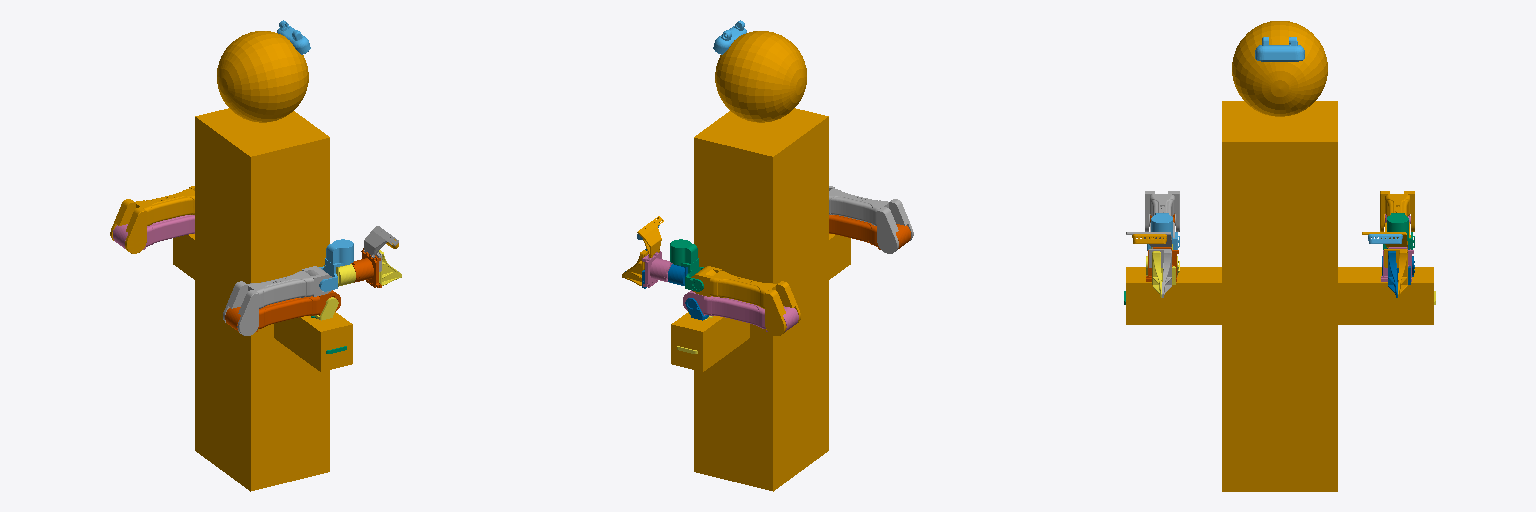
--- What the picture shows (computed from the rendered views, not written in the file) ---
Views: 3 orthographic renders of the robot side by side, from view 1: azimuth 30°, elevation 25°; view 2: azimuth 150°, elevation 25°; view 3: azimuth 270°, elevation 25°.
Model rtop with 49 links and 48 joints (12 revolute, 4 prismatic, 32 fixed), rooted at world, posed every joint at zero.
Links seen in each view (by area): view 1: base, right_link_3, left_link_3, right_link_2, left_link_2, right_link_4, right_link_6, right_camera_support; view 2: base, left_link_3, right_link_3, left_link_2, right_link_2, left_link_4, left_link_6, left_camera_support; view 3: base, right_link_3, left_link_3, top_camera, left_link_left_finger.
Boxes of the visible links, x1,y1,x2,y2 form: base: [173, 31, 352, 491]; right_link_3: [223, 266, 332, 335]; left_link_3: [110, 186, 194, 253]; right_link_2: [225, 290, 340, 331]; left_link_2: [113, 215, 194, 249]; right_link_4: [319, 239, 353, 291]; right_link_6: [351, 248, 381, 287]; right_camera_support: [364, 226, 398, 257]; base: [671, 31, 850, 491]; left_link_3: [691, 266, 800, 335]; right_link_3: [829, 186, 913, 253]; left_link_2: [683, 290, 798, 331]; right_link_2: [829, 215, 910, 249]; left_link_4: [670, 239, 703, 291]; left_link_6: [642, 251, 672, 287]; left_camera_support: [637, 216, 663, 257]; base: [1126, 21, 1433, 491]; right_link_3: [1145, 191, 1179, 237]; left_link_3: [1380, 191, 1414, 237]; top_camera: [1255, 37, 1304, 61]; left_link_left_finger: [1384, 249, 1407, 297].
Size in the robot's own frame: 0.5326 by 0.81 by 1.28 metres.
Meshes: 20 distinct files referenced, 39 mesh visuals loaded (1 binary STL, 19 OBJ).

The robot description file, URDF, robot "rtop":
<?xml version="1.0" ?>
<!-- =================================================================================== -->
<!-- |    This document was autogenerated by xacro from rtop.urdf.xacro                | -->
<!-- |    EDITING THIS FILE BY HAND IS NOT RECOMMENDED                                 | -->
<!-- =================================================================================== -->
<robot name="rtop">
  <!-- Base link (body) -->
  <link name="base">
    <inertial>
      <origin rpy="1.5708 0.0 1.5708" xyz="0.0 0.0 0.0"/>
      <mass value="10.0"/>
      <inertia ixx="1.0" ixy="0" ixz="0" iyy="1.0" iyz="0" izz="1.0"/>
    </inertial>
    <!-- TRONCO -->
    <visual name="base_visual">
      <origin rpy="1.5708 0.0 1.5708" xyz="0.0 0.0 1.0"/>
      <geometry>
        <box size="0.30 1.0 0.25"/>
      </geometry>
    </visual>
    <!-- HOMBROS -->
    <visual name="base_visual_hombros">
      <origin rpy="1.5708 0.0 1.5708" xyz="0.0 0.0 1.0"/>
      <geometry>
        <box size="0.8 0.12 0.10"/>
      </geometry>
    </visual>
    <!-- CABEZA -->
    <visual name="base_visual_cabeza">
      <origin rpy="1.5708 0.0 1.5708" xyz="0.0 0.0 1.65"/>
      <geometry>
        <sphere radius="0.125"/>
      </geometry>
    </visual>
    <collision name="base_collision">
      <origin rpy="1.5708 0.0 1.5708" xyz="0.0 0.0 1.0"/>
      <geometry>
        <box size="0.30 1.0 0.25"/>
      </geometry>
    </collision>
    <!-- HOMBROS -->
    <collision name="base_collision_hombros">
      <origin rpy="1.5708 0.0 1.5708" xyz="0.0 0.0 1.0"/>
      <geometry>
        <box size="0.8 0.12 0.10"/>
      </geometry>
    </collision>
    <!-- CABEZA -->
    <collision name="base_collision_cabeza">
      <origin rpy="1.5708 0.0 1.5708" xyz="0.0 0.0 1.65"/>
      <geometry>
        <sphere radius="0.125"/>
      </geometry>
    </collision>
  </link>
  <!-- Top camera link -->
  <link name="top_camera">
    <inertial>
      <origin rpy="0.0 0.0 0.0" xyz="0.0 0.0 0.0"/>
      <mass value="0.5"/>
      <inertia ixx="0.001" ixy="0" ixz="0" iyy="0.001" iyz="0" izz="0.001"/>
    </inertial>
    <visual name="top_camera_visual">
      <origin rpy="0.0 0.0 0.0" xyz="0.0 0.0 0.0"/>
      <geometry>
        <mesh filename="package://rtop_description/meshes/top_camera.obj"/>
      </geometry>
    </visual>
    <collision name="top_camera_collision">
      <origin rpy="0.0 0.0 0.0" xyz="0.0 0.0 0.0"/>
      <geometry>
        <mesh filename="package://rtop_description/meshes/top_camera.obj"/>
      </geometry>
    </collision>
  </link>
  <!-- Joint from base to top camera -->
  <joint name="base_to_top_camera" type="fixed">
    <parent link="base"/>
    <child link="top_camera"/>
    <origin rpy="2.84489 0.0 1.5708" xyz="0.0865 0.0 1.77"/>
  </joint>
  <!-- World link -->
  <link name="world">
    <inertial>
      <origin rpy="0.0 0.0 0.0" xyz="0.0 0.0 0.0"/>
      <mass value="0.0"/>
      <inertia ixx="0.0" ixy="0" ixz="0" iyy="0.0" iyz="0" izz="0.0"/>
    </inertial>
  </link>
  <!-- Joint from world to base -->
  <joint name="world_to_base" type="fixed">
    <parent link="world"/>
    <child link="base"/>
    <origin rpy="0.0 0.0 0.0" xyz="0.0 0.0 0.0"/>
  </joint>
  <!-- Arm base link -->
  <link name="left_arm">
    <inertial>
      <origin rpy="0.0 0.0 0.0" xyz="0.0 0.0 0.026"/>
      <mass value="0.21895644158459424"/>
      <inertia ixx="0.00013879124248906134" ixy="0" ixz="0" iyy="0.00013879124248906134" iyz="0" izz="0.00010282878735692499"/>
    </inertial>
    <visual name="left_model2">
      <origin rpy="1.5701130102263443 0.005344186766801151 -3.1414365496107033" xyz="-2.0738360577213484e-05 2.041311002275178e-05 0.01154286287615687"/>
      <geometry>
        <mesh filename="package://yam_arm_description/meshes/converted_model2_808080ff.obj"/>
      </geometry>
    </visual>
    <collision name="left_model2_collision">
      <origin rpy="1.5701130102263443 0.005344186766801151 -3.1414365496107033" xyz="-2.0738360577213484e-05 2.041311002275178e-05 0.01154286287615687"/>
      <geometry>
        <mesh filename="package://yam_arm_description/meshes/converted_model2_808080ff.obj"/>
      </geometry>
    </collision>
  </link>
  <joint name="left_parent2arm_fixed" type="fixed">
    <parent link="base"/>
    <child link="left_arm"/>
    <origin rpy="0.0 0.0 0.0" xyz="0.0 0.305 1.0"/>
  </joint>
  <!-- Link 1 -->
  <link name="left_link_1">
    <inertial>
      <origin rpy="1.6743480392523338 -0.6015439689011491 1.5666873963753192" xyz="-0.00192861 -0.00795735 0.0208176"/>
      <mass value="0.12415"/>
      <inertia ixx="0.000180751" ixy="0" ixz="0" iyy="0.000145532" iyz="0" izz="5.89179e-05"/>
    </inertial>
    <visual name="left_model2__2">
      <origin rpy="1.5650454550240567 -0.6317582807873867 1.5710673633815686" xyz="0.0007117901440024366 -0.008267794027987337 0.022250179687008112"/>
      <geometry>
        <mesh filename="package://yam_arm_description/meshes/converted_model2__2_808080ff.obj"/>
      </geometry>
    </visual>
    <collision name="left_model2__2_collision">
      <origin rpy="1.5650454550240567 -0.6317582807873867 1.5710673633815686" xyz="0.0007117901440024366 -0.008267794027987337 0.022250179687008112"/>
      <geometry>
        <mesh filename="package://yam_arm_description/meshes/converted_model2__2_808080ff.obj"/>
      </geometry>
    </collision>
  </link>
  <link name="left_joint1_link">
    <inertial>
      <origin rpy="0.0 0.0 0.0" xyz="0.0 0.0 0.0"/>
      <mass value="0.001"/>
      <inertia ixx="1e-09" ixy="0" ixz="0" iyy="1e-09" iyz="0" izz="1e-09"/>
    </inertial>
  </link>
  <joint name="left_joint1" type="revolute">
    <parent link="left_arm"/>
    <child link="left_joint1_link"/>
    <origin rpy="0.0 0.0 1.5707963267948963" xyz="0.0 0.0 0.0631"/>
    <axis xyz="0.0 0.0 1.0"/>
    <limit effort="100" lower="-2.61799" upper="3.05433" velocity="100"/>
  </joint>
  <joint name="left_joint1_offset" type="fixed">
    <parent link="left_joint1_link"/>
    <child link="left_link_1"/>
    <origin rpy="0.0 0.0 0.0" xyz="-0.0 -0.0 -0.0"/>
  </joint>
  <!-- Link 2 -->
  <link name="left_link_2">
    <inertial>
      <origin rpy="1.5707963267948966 0.0 1.5707963267948966" xyz="0.132008 2.10599e-06 0.000293073"/>
      <mass value="1.24434"/>
      <inertia ixx="0.0121902" ixy="0" ixz="0" iyy="0.0121318" iyz="0" izz="0.000683304"/>
    </inertial>
    <visual name="left_model2__3">
      <origin rpy="0.0012886015838013758 0.0 1.5707963267948966" xyz="0.26007948449650414 2.5977632368834325e-07 0.00022869283697025413"/>
      <geometry>
        <mesh filename="package://yam_arm_description/meshes/converted_model2__3_808080ff.obj"/>
      </geometry>
    </visual>
    <collision name="left_model2__3_collision">
      <origin rpy="0.0012886015838013758 0.0 1.5707963267948966" xyz="0.26007948449650414 2.5977632368834325e-07 0.00022869283697025413"/>
      <geometry>
        <mesh filename="package://yam_arm_description/meshes/converted_model2__3_808080ff.obj"/>
      </geometry>
    </collision>
    <visual name="left_model2__4">
      <origin rpy="-0.0012886020855807743 0.0 1.5707963267948966" xyz="0.003920561027152974 2.5977629421192194e-07 0.00022869282878015162"/>
      <geometry>
        <mesh filename="package://yam_arm_description/meshes/converted_model2__4_808080ff.obj"/>
      </geometry>
    </visual>
    <collision name="left_model2__4_collision">
      <origin rpy="-0.0012886020855807743 0.0 1.5707963267948966" xyz="0.003920561027152974 2.5977629421192194e-07 0.00022869282878015162"/>
      <geometry>
        <mesh filename="package://yam_arm_description/meshes/converted_model2__4_808080ff.obj"/>
      </geometry>
    </collision>
    <visual name="left_model2__5">
      <origin rpy="1.5720341600620127 -1.5679213575591051 -1.5720413321413815" xyz="0.1320117461361114 -1.306943646950387e-05 9.079293692478702e-08"/>
      <geometry>
        <mesh filename="package://yam_arm_description/meshes/converted_model2__5_808080ff.obj"/>
      </geometry>
    </visual>
    <collision name="left_model2__5_collision">
      <origin rpy="1.5720341600620127 -1.5679213575591051 -1.5720413321413815" xyz="0.1320117461361114 -1.306943646950387e-05 9.079293692478702e-08"/>
      <geometry>
        <mesh filename="package://yam_arm_description/meshes/converted_model2__5_808080ff.obj"/>
      </geometry>
    </collision>
  </link>
  <link name="left_joint2_link">
    <inertial>
      <origin rpy="0.0 0.0 0.0" xyz="0.0 0.0 0.0"/>
      <mass value="0.001"/>
      <inertia ixx="1e-09" ixy="0" ixz="0" iyy="1e-09" iyz="0" izz="1e-09"/>
    </inertial>
  </link>
  <joint name="left_joint2" type="revolute">
    <parent link="left_link_1"/>
    <child link="left_joint2_link"/>
    <origin rpy="1.5707963267948966 0.0 1.5707963267948966" xyz="2.5e-05 -0.02 0.0409"/>
    <axis xyz="0.0 0.0 1.0"/>
    <limit effort="300" lower="-1.0e-03" upper="3.66519" velocity="100"/>
  </joint>
  <joint name="left_joint2_offset" type="fixed">
    <parent link="left_joint2_link"/>
    <child link="left_link_2"/>
    <origin rpy="0.0 0.0 0.0" xyz="-0.0 -0.0 -0.0"/>
  </joint>
  <!-- Link 3 -->
  <link name="left_link_3">
    <inertial>
      <origin rpy="1.5707963267948966 0.0 1.5707963267948966" xyz="-0.121816 -0.054846 -0.000111108"/>
      <mass value="0.853698"/>
      <inertia ixx="0.00699732" ixy="0" ixz="0" iyy="0.00696112" iyz="0" izz="0.000788244"/>
    </inertial>
    <visual name="left_model2__6">
      <origin rpy="3.0364915071378875 0.0 -1.5707963267948968" xyz="-0.24063976713274154 -0.059999782142154706 -0.003760273578300405"/>
      <geometry>
        <mesh filename="package://yam_arm_description/meshes/converted_model2__6_808080ff.obj"/>
      </geometry>
    </visual>
    <collision name="left_model2__6_collision">
      <origin rpy="3.0364915071378875 0.0 -1.5707963267948968" xyz="-0.24063976713274154 -0.059999782142154706 -0.003760273578300405"/>
      <geometry>
        <mesh filename="package://yam_arm_description/meshes/converted_model2__6_808080ff.obj"/>
      </geometry>
    </collision>
    <visual name="left_model2__7">
      <origin rpy="-2.87879006743723 1.4720957652931421 1.6013719605643306" xyz="-0.007710009148021196 -0.03486048010433765 0.0347071645682882"/>
      <geometry>
        <mesh filename="package://yam_arm_description/meshes/converted_model2__7_808080ff.obj"/>
      </geometry>
    </visual>
    <collision name="left_model2__7_collision">
      <origin rpy="-2.87879006743723 1.4720957652931421 1.6013719605643306" xyz="-0.007710009148021196 -0.03486048010433765 0.0347071645682882"/>
      <geometry>
        <mesh filename="package://yam_arm_description/meshes/converted_model2__7_808080ff.obj"/>
      </geometry>
    </collision>
    <visual name="left_model2__8">
      <origin rpy="1.5707945314613085 0.0026832997041226214 -1.570809065297576" xyz="-0.1206720859561709 -0.06001334031535149 5.408345552423209e-07"/>
      <geometry>
        <mesh filename="package://yam_arm_description/meshes/converted_model2__8_808080ff.obj"/>
      </geometry>
    </visual>
    <collision name="left_model2__8_collision">
      <origin rpy="1.5707945314613085 0.0026832997041226214 -1.570809065297576" xyz="-0.1206720859561709 -0.06001334031535149 5.408345552423209e-07"/>
      <geometry>
        <mesh filename="package://yam_arm_description/meshes/converted_model2__8_808080ff.obj"/>
      </geometry>
    </collision>
    <visual name="left_model2__9">
      <origin rpy="0.28836143122615043 1.443690062944695 -1.515041718980295" xyz="-0.008240431625057998 -0.03737256683266851 -0.033699619180835645"/>
      <geometry>
        <mesh filename="package://yam_arm_description/meshes/converted_model2__9_808080ff.obj"/>
      </geometry>
    </visual>
    <collision name="left_model2__9_collision">
      <origin rpy="0.28836143122615043 1.443690062944695 -1.515041718980295" xyz="-0.008240431625057998 -0.03737256683266851 -0.033699619180835645"/>
      <geometry>
        <mesh filename="package://yam_arm_description/meshes/converted_model2__9_808080ff.obj"/>
      </geometry>
    </collision>
  </link>
  <link name="left_joint3_link">
    <inertial>
      <origin rpy="0.0 0.0 0.0" xyz="0.0 0.0 0.0"/>
      <mass value="0.001"/>
      <inertia ixx="1e-09" ixy="0" ixz="0" iyy="1e-09" iyz="0" izz="1e-09"/>
    </inertial>
  </link>
  <joint name="left_joint3" type="revolute">
    <parent link="left_link_2"/>
    <child link="left_joint3_link"/>
    <origin rpy="3.141592653589793 0.0 0.0" xyz="0.264 0.0 0.0"/>
    <axis xyz="0.0 0.0 1.0"/>
    <limit effort="300" lower="-1.0e-03" upper="3.66519" velocity="100"/>
  </joint>
  <joint name="left_joint3_offset" type="fixed">
    <parent link="left_joint3_link"/>
    <child link="left_link_3"/>
    <origin rpy="0.0 0.0 0.0" xyz="-0.0 -0.0 -0.0"/>
  </joint>
  <!-- Link 4 -->
  <link name="left_link_4">
    <inertial>
      <origin rpy="1.5707963267948966 0.0 -0.6801532411309218" xyz="-0.0769778 -0.0527104 0.000154878"/>
      <mass value="0.463511"/>
      <inertia ixx="0.000791532" ixy="0" ixz="0" iyy="0.000744733" iyz="0" izz="0.000282116"/>
    </inertial>
    <visual name="left_model2__10">
      <origin rpy="1.5394854457020648 0.021662003917252814 -0.7117475435376935" xyz="-0.046776068687813616 -0.038270471745625256 -0.0008915243508352188"/>
      <geometry>
        <mesh filename="package://yam_arm_description/meshes/converted_model2__10_808080ff.obj"/>
      </geometry>
    </visual>
    <collision name="left_model2__10_collision">
      <origin rpy="1.5394854457020648 0.021662003917252814 -0.7117475435376935" xyz="-0.046776068687813616 -0.038270471745625256 -0.0008915243508352188"/>
      <geometry>
        <mesh filename="package://yam_arm_description/meshes/converted_model2__10_808080ff.obj"/>
      </geometry>
    </collision>
  </link>
  <link name="left_joint4_link">
    <inertial>
      <origin rpy="0.0 0.0 0.0" xyz="0.0 0.0 0.0"/>
      <mass value="0.001"/>
      <inertia ixx="1e-09" ixy="0" ixz="0" iyy="1e-09" iyz="0" izz="1e-09"/>
    </inertial>
  </link>
  <joint name="left_joint4" type="revolute">
    <parent link="left_link_3"/>
    <child link="left_joint4_link"/>
    <origin rpy="0.0 0.0 0.0" xyz="-0.245 -0.06 0.0"/>
    <axis xyz="0.0 0.0 1.0"/>
    <limit effort="100" lower="-1.5708" upper="1.5708" velocity="100"/>
  </joint>
  <joint name="left_joint4_offset" type="fixed">
    <parent link="left_joint4_link"/>
    <child link="left_link_4"/>
    <origin rpy="0.0 0.0 0.0" xyz="-0.0 -0.0 -0.0"/>
  </joint>
  <!-- Link 5 -->
  <link name="left_link_5">
    <inertial>
      <origin rpy="0.0 0.0 0.0" xyz="3.64861e-05 0.00025665 0.0353526"/>
      <mass value="0.350962"/>
      <inertia ixx="0.000197802" ixy="0" ixz="0" iyy="0.0001775" iyz="0" izz="0.000147402"/>
    </inertial>
    <visual name="left_model2__11">
      <origin rpy="2.67318045036048 0.0016544870659682687 -0.01152938218496731" xyz="5.815639855540116e-05 -0.0005553836621680353 0.03206235288381598"/>
      <geometry>
        <mesh filename="package://yam_arm_description/meshes/converted_model2__11_808080ff.obj"/>
      </geometry>
    </visual>
    <collision name="left_model2__11_collision">
      <origin rpy="2.67318045036048 0.0016544870659682687 -0.01152938218496731" xyz="5.815639855540116e-05 -0.0005553836621680353 0.03206235288381598"/>
      <geometry>
        <mesh filename="package://yam_arm_description/meshes/converted_model2__11_808080ff.obj"/>
      </geometry>
    </collision>
  </link>
  <link name="left_joint5_link">
    <inertial>
      <origin rpy="0.0 0.0 0.0" xyz="0.0 0.0 0.0"/>
      <mass value="0.001"/>
      <inertia ixx="1e-09" ixy="0" ixz="0" iyy="1e-09" iyz="0" izz="1e-09"/>
    </inertial>
  </link>
  <joint name="left_joint5" type="revolute">
    <parent link="left_link_4"/>
    <child link="left_joint5_link"/>
    <origin rpy="-1.5707963267948966 1.5707963267948966 0.0" xyz="-0.074 -0.0395 2.5e-05"/>
    <axis xyz="0.0 0.0 1.0"/>
    <limit effort="100" lower="-1.5708" upper="1.5708" velocity="100"/>
  </joint>
  <joint name="left_joint5_offset" type="fixed">
    <parent link="left_joint5_link"/>
    <child link="left_link_5"/>
    <origin rpy="0.0 0.0 0.0" xyz="-0.0 -0.0 -0.0"/>
  </joint>
  <!-- Link 6 -->
  <link name="left_link_6">
    <inertial>
      <origin rpy="1.5707963267948963 0.0 0.0" xyz="-0.000217767 7.37059e-05 0.0270545"/>
      <mass value="0.367476"/>
      <inertia ixx="0.000265958" ixy="0" ixz="0" iyy="0.000242686" iyz="0" izz="0.000227409"/>
    </inertial>
    <visual name="left_model2__12">
      <origin rpy="-1.7453668887584697 1.565490971850807 -1.9699125405676954" xyz="8.788302043375991e-05 0.0001190912220788709 0.05116721790419726"/>
      <geometry>
        <mesh filename="package://yam_arm_description/meshes/converted_model2__12_808080ff.obj"/>
      </geometry>
    </visual>
    <collision name="left_model2__12_collision">
      <origin rpy="-1.7453668887584697 1.565490971850807 -1.9699125405676954" xyz="8.788302043375991e-05 0.0001190912220788709 0.05116721790419726"/>
      <geometry>
        <mesh filename="package://yam_arm_description/meshes/converted_model2__12_808080ff.obj"/>
      </geometry>
    </collision>
    <visual name="left_model2__13">
      <origin rpy="-1.5799559470247646 0.8170286688385331 -0.14641337505452354" xyz="-0.00017825474995774047 1.6195054943213272e-05 0.03422382038141725"/>
      <geometry>
        <mesh filename="package://yam_arm_description/meshes/converted_model2__13_808080ff.obj"/>
      </geometry>
    </visual>
    <collision name="left_model2__13_collision">
      <origin rpy="-1.5799559470247646 0.8170286688385331 -0.14641337505452354" xyz="-0.00017825474995774047 1.6195054943213272e-05 0.03422382038141725"/>
      <geometry>
        <mesh filename="package://yam_arm_description/meshes/converted_model2__13_808080ff.obj"/>
      </geometry>
    </collision>
  </link>
  <link name="left_joint6_link">
    <inertial>
      <origin rpy="0.0 0.0 0.0" xyz="0.0 0.0 0.0"/>
      <mass value="0.001"/>
      <inertia ixx="1e-09" ixy="0" ixz="0" iyy="1e-09" iyz="0" izz="1e-09"/>
    </inertial>
  </link>
  <joint name="left_joint6" type="revolute">
    <parent link="left_link_5"/>
    <child link="left_joint6_link"/>
    <origin rpy="-1.5707963267948963 0.0 0.0" xyz="0.0 0.0353 0.0395"/>
    <axis xyz="0.0 0.0 1.0"/>
    <limit effort="100" lower="-2.0944" upper="2.0944" velocity="100"/>
  </joint>
  <joint name="left_joint6_offset" type="fixed">
    <parent link="left_joint6_link"/>
    <child link="left_link_6"/>
    <origin rpy="0.0 0.0 0.0" xyz="-0.0 -0.0 -0.0"/>
  </joint>
  <!-- Gripper: Left Finger -->
  <link name="left_link_left_finger">
    <inertial>
      <origin rpy="1.401155911297378 -0.506095322833723 -0.42940521230428" xyz="-0.0192995 -0.0365902 0.039774"/>
      <mass value="0.118"/>
      <inertia ixx="0.000159084" ixy="0" ixz="0" iyy="0.000154909" iyz="0" izz="4.63655e-05"/>
    </inertial>
    <visual name="left_model2__14">
      <origin rpy="1.2436149090470108 -1.3351755324428634 3.1192068678405445" xyz="-0.02621919095860112 -0.050961301789609365 0.04847966761952425"/>
      <geometry>
        <mesh filename="package://yam_arm_description/meshes/converted_model2__14_808080ff.obj"/>
      </geometry>
    </visual>
    <collision name="left_model2__14_collision">
      <origin rpy="1.2436149090470108 -1.3351755324428634 3.1192068678405445" xyz="-0.02621919095860112 -0.050961301789609365 0.04847966761952425"/>
      <geometry>
        <mesh filename="package://yam_arm_description/meshes/converted_model2__14_808080ff.obj"/>
      </geometry>
    </collision>
    <visual name="left_model2__15">
      <origin rpy="-0.08499655397451025 -0.08210615684708134 0.012014286826329146" xyz="-0.0018267628293356375 -0.014013453565219658 0.02860778296204746"/>
      <geometry>
        <mesh filename="package://yam_arm_description/meshes/converted_model2__15_808080ff.obj"/>
      </geometry>
    </visual>
    <collision name="left_model2__15_collision">
      <origin rpy="-0.08499655397451025 -0.08210615684708134 0.012014286826329146" xyz="-0.0018267628293356375 -0.014013453565219658 0.02860778296204746"/>
      <geometry>
        <mesh filename="package://yam_arm_description/meshes/converted_model2__15_808080ff.obj"/>
      </geometry>
    </collision>
  </link>
  <link name="left_left_finger_link">
    <inertial>
      <origin rpy="0.0 0.0 0.0" xyz="0.0 0.0 0.0"/>
      <mass value="0.001"/>
      <inertia ixx="1e-09" ixy="0" ixz="0" iyy="1e-09" iyz="0" izz="1e-09"/>
    </inertial>
  </link>
  <joint name="left_left_finger" type="prismatic">
    <parent link="left_link_6"/>
    <child link="left_left_finger_link"/>
    <origin rpy="-0.0 1.5707963267948966 0.0" xyz="-0.037 0.0392 0.0605"/>
    <axis xyz="0.0 0.0 1.0"/>
    <limit effort="100" lower="-0.00205" upper="0.037524" velocity="100"/>
  </joint>
  <joint name="left_left_finger_offset" type="fixed">
    <parent link="left_left_finger_link"/>
    <child link="left_link_left_finger"/>
    <origin rpy="0.0 0.0 0.0" xyz="-0.0 -0.0 -0.0"/>
  </joint>
  <link name="left_lf_rot">
    <inertial>
      <origin rpy="2.03719733945046 0.34503462898803194 1.5781769326774222" xyz="-0.008421052631578949 -0.015789473684210527 0.020421052631578947"/>
      <mass value="0.039793506945470715"/>
      <inertia ixx="2.3910376870188726e-05" ixy="0" ixz="0" iyy="2.0730203360923295e-05" iyz="0" izz="5.660176249101842e-06"/>
    </inertial>
  </link>
  <joint name="left_link_left_finger2lf_rot_fixed" type="fixed">
    <parent link="left_link_left_finger"/>
    <child link="left_lf_rot"/>
    <origin rpy="-1.5707963267948966 0.0 1.5707963267948966" xyz="0.0 -0.0392 0.037"/>
  </joint>
  <link name="left_lf_down">
    <inertial>
      <origin rpy="0.25192924677866 0.2603701692584921 1.7911531458129852" xyz="0.004865675005941529 -0.012786258560154471 0.029346031921652322"/>
      <mass value="0.02077574023677297"/>
      <inertia ixx="1.5767067212852193e-05" ixy="0" ixz="0" iyy="1.3071054583294231e-05" iyz="0" izz="3.94367471938606e-06"/>
    </inertial>
  </link>
  <joint name="left_lf_rot2lf_down_fixed" type="fixed">
    <parent link="left_lf_rot"/>
    <child link="left_lf_down"/>
    <origin rpy="0.0 0.0 0.0" xyz="-0.044 0.0 0.0"/>
  </joint>
  <!-- Gripper: Right Finger -->
  <link name="left_link_right_finger">
    <inertial>
      <origin rpy="-1.401155911297378 0.506095322833723 -0.42940521230428" xyz="-0.0192995 0.0365902 -0.039774"/>
      <mass value="0.118"/>
      <inertia ixx="0.000159084" ixy="0" ixz="0" iyy="0.000154909" iyz="0" izz="4.63655e-05"/>
    </inertial>
    <visual name="left_model2__16">
      <origin rpy="-0.08499624911644794 0.08210615585822456 -0.012014239544932078" xyz="-0.001826763203738313 0.014013021507929144 -0.02860778467768097"/>
      <geometry>
        <mesh filename="package://yam_arm_description/meshes/converted_model2__16_808080ff.obj"/>
      </geometry>
    </visual>
    <collision name="left_model2__16_collision">
      <origin rpy="-0.08499624911644794 0.08210615585822456 -0.012014239544932078" xyz="-0.001826763203738313 0.014013021507929144 -0.02860778467768097"/>
      <geometry>
        <mesh filename="package://yam_arm_description/meshes/converted_model2__16_808080ff.obj"/>
      </geometry>
    </collision>
    <visual name="left_model2__17">
      <origin rpy="-1.8906094630983066 -1.338715519977303 -0.013733131456833558" xyz="-0.026152342123741346 0.026813733867866105 -0.04844908896546901"/>
      <geometry>
        <mesh filename="package://yam_arm_description/meshes/converted_model2__17_808080ff.obj"/>
      </geometry>
    </visual>
    <collision name="left_model2__17_collision">
      <origin rpy="-1.8906094630983066 -1.338715519977303 -0.013733131456833558" xyz="-0.026152342123741346 0.026813733867866105 -0.04844908896546901"/>
      <geometry>
        <mesh filename="package://yam_arm_description/meshes/converted_model2__17_808080ff.obj"/>
      </geometry>
    </collision>
  </link>
  <link name="left_right_finger_link">
    <inertial>
      <origin rpy="0.0 0.0 0.0" xyz="0.0 0.0 0.0"/>
      <mass value="0.001"/>
      <inertia ixx="1e-09" ixy="0" ixz="0" iyy="1e-09" iyz="0" izz="1e-09"/>
    </inertial>
  </link>
  <joint name="left_right_finger" type="prismatic">
    <parent link="left_link_6"/>
    <child link="left_right_finger_link"/>
    <origin rpy="-0.0 1.5707963267948966 0.0" xyz="0.037 -0.0392 0.0605"/>
    <axis xyz="0.0 0.0 1.0"/>
    <limit effort="100" lower="-0.037524" upper="0.00205" velocity="100"/>
    <mimic joint="left_left_finger" multiplier="-1" offset="0"/>
  </joint>
  <joint name="left_right_finger_offset" type="fixed">
    <parent link="left_right_finger_link"/>
    <child link="left_link_right_finger"/>
    <origin rpy="0.0 0.0 0.0" xyz="-0.0 -0.0 -0.0"/>
  </joint>
  <link name="left_rf_rot">
    <inertial>
      <origin rpy="1.1043953141393332 0.34503462898803194 1.563415720912371" xyz="0.008421052631578949 -0.015789473684210527 0.020421052631578947"/>
      <mass value="0.039793506945470715"/>
      <inertia ixx="2.3910376870188726e-05" ixy="0" ixz="0" iyy="2.0730203360923295e-05" iyz="0" izz="5.660176249101842e-06"/>
    </inertial>
  </link>
  <joint name="left_link_right_finger2rf_rot_fixed" type="fixed">
    <parent link="left_link_right_finger"/>
    <child link="left_rf_rot"/>
    <origin rpy="1.5707963267948966 0.0 -1.5707963267948966" xyz="0.0 0.0392 -0.037"/>
  </joint>
  <link name="left_rf_down">
    <inertial>
      <origin rpy="-0.25192924677866 0.2603701692584921 1.3504395077768079" xyz="-0.004865675005941529 -0.012786258560154471 0.029346031921652322"/>
      <mass value="0.02077574023677297"/>
      <inertia ixx="1.5767067212852193e-05" ixy="0" ixz="0" iyy="1.3071054583294231e-05" iyz="0" izz="3.94367471938606e-06"/>
    </inertial>
  </link>
  <joint name="left_rf_rot2rf_down_fixed" type="fixed">
    <parent link="left_rf_rot"/>
    <child link="left_rf_down"/>
    <origin rpy="0.0 0.0 0.0" xyz="0.044 0.0 0.0"/>
  </joint>
  <link name="left_camera_support">
    <inertial>
      <origin rpy="0.0 0.0 0.0" xyz="0.0 0.0 0.0"/>
      <mass value="0.1"/>
      <inertia ixx="0.0001" ixy="0" ixz="0" iyy="0.0001" iyz="0" izz="0.0001"/>
    </inertial>
    <visual name="left_camera_support_visual">
      <origin rpy="0.0 0.0 0.0" xyz="0.0 0.0 0.0"/>
      <geometry>
        <mesh filename="package://yam_arm_description/meshes/camera_support.stl"/>
      </geometry>
    </visual>
    <collision name="left_camera_support_collision">
      <origin rpy="0.0 0.0 0.0" xyz="0.0 0.0 0.0"/>
      <geometry>
        <mesh filename="package://yam_arm_description/meshes/camera_support.stl"/>
      </geometry>
    </collision>
  </link>
  <joint name="left_link_6_to_camera_support_fixed" type="fixed">
    <parent link="left_link_6"/>
    <child link="left_camera_support"/>
    <origin rpy="1.5708 1.5708 3.14159" xyz="-0.02618 0.04089 0.05052"/>
  </joint>
  <link name="left_d435">
    <inertial>
      <origin rpy="0.0 0.0 0.0" xyz="0.0 0.0 0.0"/>
      <mass value="0.072"/>
      <inertia ixx="0.0001" ixy="0" ixz="0" iyy="0.0001" iyz="0" izz="0.0001"/>
    </inertial>
    <visual name="left_d435_visual">
      <origin rpy="0.0 0.0 0.0" xyz="0.0 0.0 0.0"/>
      <geometry>
        <mesh filename="package://yam_arm_description/meshes/D435.obj"/>
      </geometry>
    </visual>
    <collision name="left_d435_collision">
      <origin rpy="0.0 0.0 0.0" xyz="0.0 0.0 0.0"/>
      <geometry>
        <mesh filename="package://yam_arm_description/meshes/D435.obj"/>
      </geometry>
    </collision>
  </link>
  <joint name="left_camera_support2d435_fixed" type="fixed">
    <parent link="left_camera_support"/>
    <child link="left_d435"/>
    <origin rpy="2.6180 0.0 -1.5708" xyz="-0.03014 0.00604 0.06023"/>
  </joint>
  <!-- Arm base link -->
  <link name="right_arm">
    <inertial>
      <origin rpy="0.0 0.0 0.0" xyz="0.0 0.0 0.026"/>
      <mass value="0.21895644158459424"/>
      <inertia ixx="0.00013879124248906134" ixy="0" ixz="0" iyy="0.00013879124248906134" iyz="0" izz="0.00010282878735692499"/>
    </inertial>
    <visual name="right_model2">
      <origin rpy="1.5701130102263443 0.005344186766801151 -3.1414365496107033" xyz="-2.0738360577213484e-05 2.041311002275178e-05 0.01154286287615687"/>
      <geometry>
        <mesh filename="package://yam_arm_description/meshes/converted_model2_808080ff.obj"/>
      </geometry>
    </visual>
    <collision name="right_model2_collision">
      <origin rpy="1.5701130102263443 0.005344186766801151 -3.1414365496107033" xyz="-2.0738360577213484e-05 2.041311002275178e-05 0.01154286287615687"/>
      <geometry>
        <mesh filename="package://yam_arm_description/meshes/converted_model2_808080ff.obj"/>
      </geometry>
    </collision>
  </link>
  <joint name="right_parent2arm_fixed" type="fixed">
    <parent link="base"/>
    <child link="right_arm"/>
    <origin rpy="0.0 0.0 0.0" xyz="0.0 -0.305 1.0"/>
  </joint>
  <!-- Link 1 -->
  <link name="right_link_1">
    <inertial>
      <origin rpy="1.6743480392523338 -0.6015439689011491 1.5666873963753192" xyz="-0.00192861 -0.00795735 0.0208176"/>
      <mass value="0.12415"/>
      <inertia ixx="0.000180751" ixy="0" ixz="0" iyy="0.000145532" iyz="0" izz="5.89179e-05"/>
    </inertial>
    <visual name="right_model2__2">
      <origin rpy="1.5650454550240567 -0.6317582807873867 1.5710673633815686" xyz="0.0007117901440024366 -0.008267794027987337 0.022250179687008112"/>
      <geometry>
        <mesh filename="package://yam_arm_description/meshes/converted_model2__2_808080ff.obj"/>
      </geometry>
    </visual>
    <collision name="right_model2__2_collision">
      <origin rpy="1.5650454550240567 -0.6317582807873867 1.5710673633815686" xyz="0.0007117901440024366 -0.008267794027987337 0.022250179687008112"/>
      <geometry>
        <mesh filename="package://yam_arm_description/meshes/converted_model2__2_808080ff.obj"/>
      </geometry>
    </collision>
  </link>
  <link name="right_joint1_link">
    <inertial>
      <origin rpy="0.0 0.0 0.0" xyz="0.0 0.0 0.0"/>
      <mass value="0.001"/>
      <inertia ixx="1e-09" ixy="0" ixz="0" iyy="1e-09" iyz="0" izz="1e-09"/>
    </inertial>
  </link>
  <joint name="right_joint1" type="revolute">
    <parent link="right_arm"/>
    <child link="right_joint1_link"/>
    <origin rpy="0.0 0.0 1.5707963267948963" xyz="0.0 0.0 0.0631"/>
    <axis xyz="0.0 0.0 1.0"/>
    <limit effort="100" lower="-2.61799" upper="3.05433" velocity="100"/>
  </joint>
  <joint name="right_joint1_offset" type="fixed">
    <parent link="right_joint1_link"/>
    <child link="right_link_1"/>
    <origin rpy="0.0 0.0 0.0" xyz="-0.0 -0.0 -0.0"/>
  </joint>
  <!-- Link 2 -->
  <link name="right_link_2">
    <inertial>
      <origin rpy="1.5707963267948966 0.0 1.5707963267948966" xyz="0.132008 2.10599e-06 0.000293073"/>
      <mass value="1.24434"/>
      <inertia ixx="0.0121902" ixy="0" ixz="0" iyy="0.0121318" iyz="0" izz="0.000683304"/>
    </inertial>
    <visual name="right_model2__3">
      <origin rpy="0.0012886015838013758 0.0 1.5707963267948966" xyz="0.26007948449650414 2.5977632368834325e-07 0.00022869283697025413"/>
      <geometry>
        <mesh filename="package://yam_arm_description/meshes/converted_model2__3_808080ff.obj"/>
      </geometry>
    </visual>
    <collision name="right_model2__3_collision">
      <origin rpy="0.0012886015838013758 0.0 1.5707963267948966" xyz="0.26007948449650414 2.5977632368834325e-07 0.00022869283697025413"/>
      <geometry>
        <mesh filename="package://yam_arm_description/meshes/converted_model2__3_808080ff.obj"/>
      </geometry>
    </collision>
    <visual name="right_model2__4">
      <origin rpy="-0.0012886020855807743 0.0 1.5707963267948966" xyz="0.003920561027152974 2.5977629421192194e-07 0.00022869282878015162"/>
      <geometry>
        <mesh filename="package://yam_arm_description/meshes/converted_model2__4_808080ff.obj"/>
      </geometry>
    </visual>
    <collision name="right_model2__4_collision">
      <origin rpy="-0.0012886020855807743 0.0 1.5707963267948966" xyz="0.003920561027152974 2.5977629421192194e-07 0.00022869282878015162"/>
      <geometry>
        <mesh filename="package://yam_arm_description/meshes/converted_model2__4_808080ff.obj"/>
      </geometry>
    </collision>
    <visual name="right_model2__5">
      <origin rpy="1.5720341600620127 -1.5679213575591051 -1.5720413321413815" xyz="0.1320117461361114 -1.306943646950387e-05 9.079293692478702e-08"/>
      <geometry>
        <mesh filename="package://yam_arm_description/meshes/converted_model2__5_808080ff.obj"/>
      </geometry>
    </visual>
    <collision name="right_model2__5_collision">
      <origin rpy="1.5720341600620127 -1.5679213575591051 -1.5720413321413815" xyz="0.1320117461361114 -1.306943646950387e-05 9.079293692478702e-08"/>
      <geometry>
        <mesh filename="package://yam_arm_description/meshes/converted_model2__5_808080ff.obj"/>
      </geometry>
    </collision>
  </link>
  <link name="right_joint2_link">
    <inertial>
      <origin rpy="0.0 0.0 0.0" xyz="0.0 0.0 0.0"/>
      <mass value="0.001"/>
      <inertia ixx="1e-09" ixy="0" ixz="0" iyy="1e-09" iyz="0" izz="1e-09"/>
    </inertial>
  </link>
  <joint name="right_joint2" type="revolute">
    <parent link="right_link_1"/>
    <child link="right_joint2_link"/>
    <origin rpy="1.5707963267948966 0.0 1.5707963267948966" xyz="2.5e-05 -0.02 0.0409"/>
    <axis xyz="0.0 0.0 1.0"/>
    <limit effort="300" lower="-1.0e-03" upper="3.66519" velocity="100"/>
  </joint>
  <joint name="right_joint2_offset" type="fixed">
    <parent link="right_joint2_link"/>
    <child link="right_link_2"/>
    <origin rpy="0.0 0.0 0.0" xyz="-0.0 -0.0 -0.0"/>
  </joint>
  <!-- Link 3 -->
  <link name="right_link_3">
    <inertial>
      <origin rpy="1.5707963267948966 0.0 1.5707963267948966" xyz="-0.121816 -0.054846 -0.000111108"/>
      <mass value="0.853698"/>
      <inertia ixx="0.00699732" ixy="0" ixz="0" iyy="0.00696112" iyz="0" izz="0.000788244"/>
    </inertial>
    <visual name="right_model2__6">
      <origin rpy="3.0364915071378875 0.0 -1.5707963267948968" xyz="-0.24063976713274154 -0.059999782142154706 -0.003760273578300405"/>
      <geometry>
        <mesh filename="package://yam_arm_description/meshes/converted_model2__6_808080ff.obj"/>
      </geometry>
    </visual>
    <collision name="right_model2__6_collision">
      <origin rpy="3.0364915071378875 0.0 -1.5707963267948968" xyz="-0.24063976713274154 -0.059999782142154706 -0.003760273578300405"/>
      <geometry>
        <mesh filename="package://yam_arm_description/meshes/converted_model2__6_808080ff.obj"/>
      </geometry>
    </collision>
    <visual name="right_model2__7">
      <origin rpy="-2.87879006743723 1.4720957652931421 1.6013719605643306" xyz="-0.007710009148021196 -0.03486048010433765 0.0347071645682882"/>
      <geometry>
        <mesh filename="package://yam_arm_description/meshes/converted_model2__7_808080ff.obj"/>
      </geometry>
    </visual>
    <collision name="right_model2__7_collision">
      <origin rpy="-2.87879006743723 1.4720957652931421 1.6013719605643306" xyz="-0.007710009148021196 -0.03486048010433765 0.0347071645682882"/>
      <geometry>
        <mesh filename="package://yam_arm_description/meshes/converted_model2__7_808080ff.obj"/>
      </geometry>
    </collision>
    <visual name="right_model2__8">
      <origin rpy="1.5707945314613085 0.0026832997041226214 -1.570809065297576" xyz="-0.1206720859561709 -0.06001334031535149 5.408345552423209e-07"/>
      <geometry>
        <mesh filename="package://yam_arm_description/meshes/converted_model2__8_808080ff.obj"/>
      </geometry>
    </visual>
    <collision name="right_model2__8_collision">
      <origin rpy="1.5707945314613085 0.0026832997041226214 -1.570809065297576" xyz="-0.1206720859561709 -0.06001334031535149 5.408345552423209e-07"/>
      <geometry>
        <mesh filename="package://yam_arm_description/meshes/converted_model2__8_808080ff.obj"/>
      </geometry>
    </collision>
    <visual name="right_model2__9">
      <origin rpy="0.28836143122615043 1.443690062944695 -1.515041718980295" xyz="-0.008240431625057998 -0.03737256683266851 -0.033699619180835645"/>
      <geometry>
        <mesh filename="package://yam_arm_description/meshes/converted_model2__9_808080ff.obj"/>
      </geometry>
    </visual>
    <collision name="right_model2__9_collision">
      <origin rpy="0.28836143122615043 1.443690062944695 -1.515041718980295" xyz="-0.008240431625057998 -0.03737256683266851 -0.033699619180835645"/>
      <geometry>
        <mesh filename="package://yam_arm_description/meshes/converted_model2__9_808080ff.obj"/>
      </geometry>
    </collision>
  </link>
  <link name="right_joint3_link">
    <inertial>
      <origin rpy="0.0 0.0 0.0" xyz="0.0 0.0 0.0"/>
      <mass value="0.001"/>
      <inertia ixx="1e-09" ixy="0" ixz="0" iyy="1e-09" iyz="0" izz="1e-09"/>
    </inertial>
  </link>
  <joint name="right_joint3" type="revolute">
    <parent link="right_link_2"/>
    <child link="right_joint3_link"/>
    <origin rpy="3.141592653589793 0.0 0.0" xyz="0.264 0.0 0.0"/>
    <axis xyz="0.0 0.0 1.0"/>
    <limit effort="300" lower="-1.0e-03" upper="3.66519" velocity="100"/>
  </joint>
  <joint name="right_joint3_offset" type="fixed">
    <parent link="right_joint3_link"/>
    <child link="right_link_3"/>
    <origin rpy="0.0 0.0 0.0" xyz="-0.0 -0.0 -0.0"/>
  </joint>
  <!-- Link 4 -->
  <link name="right_link_4">
    <inertial>
      <origin rpy="1.5707963267948966 0.0 -0.6801532411309218" xyz="-0.0769778 -0.0527104 0.000154878"/>
      <mass value="0.463511"/>
      <inertia ixx="0.000791532" ixy="0" ixz="0" iyy="0.000744733" iyz="0" izz="0.000282116"/>
    </inertial>
    <visual name="right_model2__10">
      <origin rpy="1.5394854457020648 0.021662003917252814 -0.7117475435376935" xyz="-0.046776068687813616 -0.038270471745625256 -0.0008915243508352188"/>
      <geometry>
        <mesh filename="package://yam_arm_description/meshes/converted_model2__10_808080ff.obj"/>
      </geometry>
    </visual>
    <collision name="right_model2__10_collision">
      <origin rpy="1.5394854457020648 0.021662003917252814 -0.7117475435376935" xyz="-0.046776068687813616 -0.038270471745625256 -0.0008915243508352188"/>
      <geometry>
        <mesh filename="package://yam_arm_description/meshes/converted_model2__10_808080ff.obj"/>
      </geometry>
    </collision>
  </link>
  <link name="right_joint4_link">
    <inertial>
      <origin rpy="0.0 0.0 0.0" xyz="0.0 0.0 0.0"/>
      <mass value="0.001"/>
      <inertia ixx="1e-09" ixy="0" ixz="0" iyy="1e-09" iyz="0" izz="1e-09"/>
    </inertial>
  </link>
  <joint name="right_joint4" type="revolute">
    <parent link="right_link_3"/>
    <child link="right_joint4_link"/>
    <origin rpy="0.0 0.0 0.0" xyz="-0.245 -0.06 0.0"/>
    <axis xyz="0.0 0.0 1.0"/>
    <limit effort="100" lower="-1.5708" upper="1.5708" velocity="100"/>
  </joint>
  <joint name="right_joint4_offset" type="fixed">
    <parent link="right_joint4_link"/>
    <child link="right_link_4"/>
    <origin rpy="0.0 0.0 0.0" xyz="-0.0 -0.0 -0.0"/>
  </joint>
  <!-- Link 5 -->
  <link name="right_link_5">
    <inertial>
      <origin rpy="0.0 0.0 0.0" xyz="3.64861e-05 0.00025665 0.0353526"/>
      <mass value="0.350962"/>
      <inertia ixx="0.000197802" ixy="0" ixz="0" iyy="0.0001775" iyz="0" izz="0.000147402"/>
    </inertial>
    <visual name="right_model2__11">
      <origin rpy="2.67318045036048 0.0016544870659682687 -0.01152938218496731" xyz="5.815639855540116e-05 -0.0005553836621680353 0.03206235288381598"/>
      <geometry>
        <mesh filename="package://yam_arm_description/meshes/converted_model2__11_808080ff.obj"/>
      </geometry>
    </visual>
    <collision name="right_model2__11_collision">
      <origin rpy="2.67318045036048 0.0016544870659682687 -0.01152938218496731" xyz="5.815639855540116e-05 -0.0005553836621680353 0.03206235288381598"/>
      <geometry>
        <mesh filename="package://yam_arm_description/meshes/converted_model2__11_808080ff.obj"/>
      </geometry>
    </collision>
  </link>
  <link name="right_joint5_link">
    <inertial>
      <origin rpy="0.0 0.0 0.0" xyz="0.0 0.0 0.0"/>
      <mass value="0.001"/>
      <inertia ixx="1e-09" ixy="0" ixz="0" iyy="1e-09" iyz="0" izz="1e-09"/>
    </inertial>
  </link>
  <joint name="right_joint5" type="revolute">
    <parent link="right_link_4"/>
    <child link="right_joint5_link"/>
    <origin rpy="-1.5707963267948966 1.5707963267948966 0.0" xyz="-0.074 -0.0395 2.5e-05"/>
    <axis xyz="0.0 0.0 1.0"/>
    <limit effort="100" lower="-1.5708" upper="1.5708" velocity="100"/>
  </joint>
  <joint name="right_joint5_offset" type="fixed">
    <parent link="right_joint5_link"/>
    <child link="right_link_5"/>
    <origin rpy="0.0 0.0 0.0" xyz="-0.0 -0.0 -0.0"/>
  </joint>
  <!-- Link 6 -->
  <link name="right_link_6">
    <inertial>
      <origin rpy="1.5707963267948963 0.0 0.0" xyz="-0.000217767 7.37059e-05 0.0270545"/>
      <mass value="0.367476"/>
      <inertia ixx="0.000265958" ixy="0" ixz="0" iyy="0.000242686" iyz="0" izz="0.000227409"/>
    </inertial>
    <visual name="right_model2__12">
      <origin rpy="-1.7453668887584697 1.565490971850807 -1.9699125405676954" xyz="8.788302043375991e-05 0.0001190912220788709 0.05116721790419726"/>
      <geometry>
        <mesh filename="package://yam_arm_description/meshes/converted_model2__12_808080ff.obj"/>
      </geometry>
    </visual>
    <collision name="right_model2__12_collision">
      <origin rpy="-1.7453668887584697 1.565490971850807 -1.9699125405676954" xyz="8.788302043375991e-05 0.0001190912220788709 0.05116721790419726"/>
      <geometry>
        <mesh filename="package://yam_arm_description/meshes/converted_model2__12_808080ff.obj"/>
      </geometry>
    </collision>
    <visual name="right_model2__13">
      <origin rpy="-1.5799559470247646 0.8170286688385331 -0.14641337505452354" xyz="-0.00017825474995774047 1.6195054943213272e-05 0.03422382038141725"/>
      <geometry>
        <mesh filename="package://yam_arm_description/meshes/converted_model2__13_808080ff.obj"/>
      </geometry>
    </visual>
    <collision name="right_model2__13_collision">
      <origin rpy="-1.5799559470247646 0.8170286688385331 -0.14641337505452354" xyz="-0.00017825474995774047 1.6195054943213272e-05 0.03422382038141725"/>
      <geometry>
        <mesh filename="package://yam_arm_description/meshes/converted_model2__13_808080ff.obj"/>
      </geometry>
    </collision>
  </link>
  <link name="right_joint6_link">
    <inertial>
      <origin rpy="0.0 0.0 0.0" xyz="0.0 0.0 0.0"/>
      <mass value="0.001"/>
      <inertia ixx="1e-09" ixy="0" ixz="0" iyy="1e-09" iyz="0" izz="1e-09"/>
    </inertial>
  </link>
  <joint name="right_joint6" type="revolute">
    <parent link="right_link_5"/>
    <child link="right_joint6_link"/>
    <origin rpy="-1.5707963267948963 0.0 0.0" xyz="0.0 0.0353 0.0395"/>
    <axis xyz="0.0 0.0 1.0"/>
    <limit effort="100" lower="-2.0944" upper="2.0944" velocity="100"/>
  </joint>
  <joint name="right_joint6_offset" type="fixed">
    <parent link="right_joint6_link"/>
    <child link="right_link_6"/>
    <origin rpy="0.0 0.0 0.0" xyz="-0.0 -0.0 -0.0"/>
  </joint>
  <!-- Gripper: Left Finger -->
  <link name="right_link_left_finger">
    <inertial>
      <origin rpy="1.401155911297378 -0.506095322833723 -0.42940521230428" xyz="-0.0192995 -0.0365902 0.039774"/>
      <mass value="0.118"/>
      <inertia ixx="0.000159084" ixy="0" ixz="0" iyy="0.000154909" iyz="0" izz="4.63655e-05"/>
    </inertial>
    <visual name="right_model2__14">
      <origin rpy="1.2436149090470108 -1.3351755324428634 3.1192068678405445" xyz="-0.02621919095860112 -0.050961301789609365 0.04847966761952425"/>
      <geometry>
        <mesh filename="package://yam_arm_description/meshes/converted_model2__14_808080ff.obj"/>
      </geometry>
    </visual>
    <collision name="right_model2__14_collision">
      <origin rpy="1.2436149090470108 -1.3351755324428634 3.1192068678405445" xyz="-0.02621919095860112 -0.050961301789609365 0.04847966761952425"/>
      <geometry>
        <mesh filename="package://yam_arm_description/meshes/converted_model2__14_808080ff.obj"/>
      </geometry>
    </collision>
    <visual name="right_model2__15">
      <origin rpy="-0.08499655397451025 -0.08210615684708134 0.012014286826329146" xyz="-0.0018267628293356375 -0.014013453565219658 0.02860778296204746"/>
      <geometry>
        <mesh filename="package://yam_arm_description/meshes/converted_model2__15_808080ff.obj"/>
      </geometry>
    </visual>
    <collision name="right_model2__15_collision">
      <origin rpy="-0.08499655397451025 -0.08210615684708134 0.012014286826329146" xyz="-0.0018267628293356375 -0.014013453565219658 0.02860778296204746"/>
      <geometry>
        <mesh filename="package://yam_arm_description/meshes/converted_model2__15_808080ff.obj"/>
      </geometry>
    </collision>
  </link>
  <link name="right_left_finger_link">
    <inertial>
      <origin rpy="0.0 0.0 0.0" xyz="0.0 0.0 0.0"/>
      <mass value="0.001"/>
      <inertia ixx="1e-09" ixy="0" ixz="0" iyy="1e-09" iyz="0" izz="1e-09"/>
    </inertial>
  </link>
  <joint name="right_left_finger" type="prismatic">
    <parent link="right_link_6"/>
    <child link="right_left_finger_link"/>
    <origin rpy="-0.0 1.5707963267948966 0.0" xyz="-0.037 0.0392 0.0605"/>
    <axis xyz="0.0 0.0 1.0"/>
    <limit effort="100" lower="-0.00205" upper="0.037524" velocity="100"/>
  </joint>
  <joint name="right_left_finger_offset" type="fixed">
    <parent link="right_left_finger_link"/>
    <child link="right_link_left_finger"/>
    <origin rpy="0.0 0.0 0.0" xyz="-0.0 -0.0 -0.0"/>
  </joint>
  <link name="right_lf_rot">
    <inertial>
      <origin rpy="2.03719733945046 0.34503462898803194 1.5781769326774222" xyz="-0.008421052631578949 -0.015789473684210527 0.020421052631578947"/>
      <mass value="0.039793506945470715"/>
      <inertia ixx="2.3910376870188726e-05" ixy="0" ixz="0" iyy="2.0730203360923295e-05" iyz="0" izz="5.660176249101842e-06"/>
    </inertial>
  </link>
  <joint name="right_link_left_finger2lf_rot_fixed" type="fixed">
    <parent link="right_link_left_finger"/>
    <child link="right_lf_rot"/>
    <origin rpy="-1.5707963267948966 0.0 1.5707963267948966" xyz="0.0 -0.0392 0.037"/>
  </joint>
  <link name="right_lf_down">
    <inertial>
      <origin rpy="0.25192924677866 0.2603701692584921 1.7911531458129852" xyz="0.004865675005941529 -0.012786258560154471 0.029346031921652322"/>
      <mass value="0.02077574023677297"/>
      <inertia ixx="1.5767067212852193e-05" ixy="0" ixz="0" iyy="1.3071054583294231e-05" iyz="0" izz="3.94367471938606e-06"/>
    </inertial>
  </link>
  <joint name="right_lf_rot2lf_down_fixed" type="fixed">
    <parent link="right_lf_rot"/>
    <child link="right_lf_down"/>
    <origin rpy="0.0 0.0 0.0" xyz="-0.044 0.0 0.0"/>
  </joint>
  <!-- Gripper: Right Finger -->
  <link name="right_link_right_finger">
    <inertial>
      <origin rpy="-1.401155911297378 0.506095322833723 -0.42940521230428" xyz="-0.0192995 0.0365902 -0.039774"/>
      <mass value="0.118"/>
      <inertia ixx="0.000159084" ixy="0" ixz="0" iyy="0.000154909" iyz="0" izz="4.63655e-05"/>
    </inertial>
    <visual name="right_model2__16">
      <origin rpy="-0.08499624911644794 0.08210615585822456 -0.012014239544932078" xyz="-0.001826763203738313 0.014013021507929144 -0.02860778467768097"/>
      <geometry>
        <mesh filename="package://yam_arm_description/meshes/converted_model2__16_808080ff.obj"/>
      </geometry>
    </visual>
    <collision name="right_model2__16_collision">
      <origin rpy="-0.08499624911644794 0.08210615585822456 -0.012014239544932078" xyz="-0.001826763203738313 0.014013021507929144 -0.02860778467768097"/>
      <geometry>
        <mesh filename="package://yam_arm_description/meshes/converted_model2__16_808080ff.obj"/>
      </geometry>
    </collision>
    <visual name="right_model2__17">
      <origin rpy="-1.8906094630983066 -1.338715519977303 -0.013733131456833558" xyz="-0.026152342123741346 0.026813733867866105 -0.04844908896546901"/>
      <geometry>
        <mesh filename="package://yam_arm_description/meshes/converted_model2__17_808080ff.obj"/>
      </geometry>
    </visual>
    <collision name="right_model2__17_collision">
      <origin rpy="-1.8906094630983066 -1.338715519977303 -0.013733131456833558" xyz="-0.026152342123741346 0.026813733867866105 -0.04844908896546901"/>
      <geometry>
        <mesh filename="package://yam_arm_description/meshes/converted_model2__17_808080ff.obj"/>
      </geometry>
    </collision>
  </link>
  <link name="right_right_finger_link">
    <inertial>
      <origin rpy="0.0 0.0 0.0" xyz="0.0 0.0 0.0"/>
      <mass value="0.001"/>
      <inertia ixx="1e-09" ixy="0" ixz="0" iyy="1e-09" iyz="0" izz="1e-09"/>
    </inertial>
  </link>
  <joint name="right_right_finger" type="prismatic">
    <parent link="right_link_6"/>
    <child link="right_right_finger_link"/>
    <origin rpy="-0.0 1.5707963267948966 0.0" xyz="0.037 -0.0392 0.0605"/>
    <axis xyz="0.0 0.0 1.0"/>
    <limit effort="100" lower="-0.037524" upper="0.00205" velocity="100"/>
    <mimic joint="right_left_finger" multiplier="-1" offset="0"/>
  </joint>
  <joint name="right_right_finger_offset" type="fixed">
    <parent link="right_right_finger_link"/>
    <child link="right_link_right_finger"/>
    <origin rpy="0.0 0.0 0.0" xyz="-0.0 -0.0 -0.0"/>
  </joint>
  <link name="right_rf_rot">
    <inertial>
      <origin rpy="1.1043953141393332 0.34503462898803194 1.563415720912371" xyz="0.008421052631578949 -0.015789473684210527 0.020421052631578947"/>
      <mass value="0.039793506945470715"/>
      <inertia ixx="2.3910376870188726e-05" ixy="0" ixz="0" iyy="2.0730203360923295e-05" iyz="0" izz="5.660176249101842e-06"/>
    </inertial>
  </link>
  <joint name="right_link_right_finger2rf_rot_fixed" type="fixed">
    <parent link="right_link_right_finger"/>
    <child link="right_rf_rot"/>
    <origin rpy="1.5707963267948966 0.0 -1.5707963267948966" xyz="0.0 0.0392 -0.037"/>
  </joint>
  <link name="right_rf_down">
    <inertial>
      <origin rpy="-0.25192924677866 0.2603701692584921 1.3504395077768079" xyz="-0.004865675005941529 -0.012786258560154471 0.029346031921652322"/>
      <mass value="0.02077574023677297"/>
      <inertia ixx="1.5767067212852193e-05" ixy="0" ixz="0" iyy="1.3071054583294231e-05" iyz="0" izz="3.94367471938606e-06"/>
    </inertial>
  </link>
  <joint name="right_rf_rot2rf_down_fixed" type="fixed">
    <parent link="right_rf_rot"/>
    <child link="right_rf_down"/>
    <origin rpy="0.0 0.0 0.0" xyz="0.044 0.0 0.0"/>
  </joint>
  <link name="right_camera_support">
    <inertial>
      <origin rpy="0.0 0.0 0.0" xyz="0.0 0.0 0.0"/>
      <mass value="0.1"/>
      <inertia ixx="0.0001" ixy="0" ixz="0" iyy="0.0001" iyz="0" izz="0.0001"/>
    </inertial>
    <visual name="right_camera_support_visual">
      <origin rpy="0.0 0.0 0.0" xyz="0.0 0.0 0.0"/>
      <geometry>
        <mesh filename="package://yam_arm_description/meshes/camera_support.stl"/>
      </geometry>
    </visual>
    <collision name="right_camera_support_collision">
      <origin rpy="0.0 0.0 0.0" xyz="0.0 0.0 0.0"/>
      <geometry>
        <mesh filename="package://yam_arm_description/meshes/camera_support.stl"/>
      </geometry>
    </collision>
  </link>
  <joint name="right_link_6_to_camera_support_fixed" type="fixed">
    <parent link="right_link_6"/>
    <child link="right_camera_support"/>
    <origin rpy="1.5708 1.5708 3.14159" xyz="-0.02618 0.04089 0.05052"/>
  </joint>
  <link name="right_d435">
    <inertial>
      <origin rpy="0.0 0.0 0.0" xyz="0.0 0.0 0.0"/>
      <mass value="0.072"/>
      <inertia ixx="0.0001" ixy="0" ixz="0" iyy="0.0001" iyz="0" izz="0.0001"/>
    </inertial>
    <visual name="right_d435_visual">
      <origin rpy="0.0 0.0 0.0" xyz="0.0 0.0 0.0"/>
      <geometry>
        <mesh filename="package://yam_arm_description/meshes/D435.obj"/>
      </geometry>
    </visual>
    <collision name="right_d435_collision">
      <origin rpy="0.0 0.0 0.0" xyz="0.0 0.0 0.0"/>
      <geometry>
        <mesh filename="package://yam_arm_description/meshes/D435.obj"/>
      </geometry>
    </collision>
  </link>
  <joint name="right_camera_support2d435_fixed" type="fixed">
    <parent link="right_camera_support"/>
    <child link="right_d435"/>
    <origin rpy="2.6180 0.0 -1.5708" xyz="-0.03014 0.00604 0.06023"/>
  </joint>
</robot>
